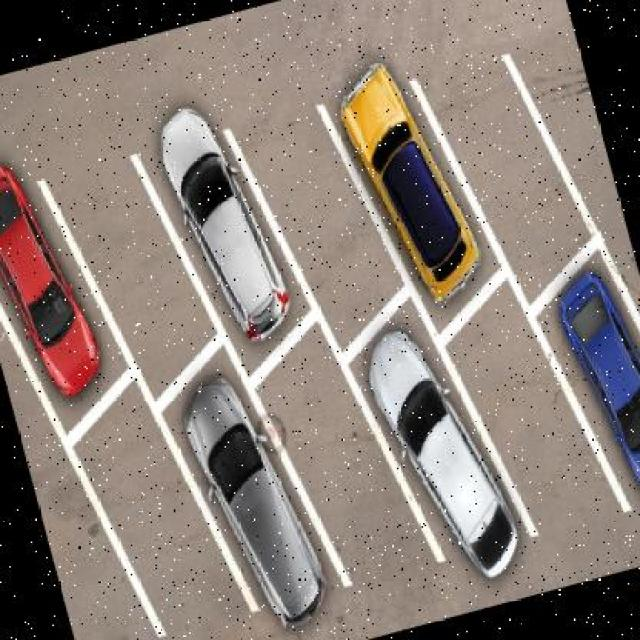Car: (360, 318, 534, 598), (171, 355, 337, 640), (326, 32, 489, 304), (151, 92, 297, 352), (1, 149, 109, 418), (544, 263, 640, 509)
Empty: (70, 398, 224, 640), (267, 347, 406, 578), (63, 141, 201, 370), (461, 311, 601, 520), (258, 109, 389, 326), (446, 54, 570, 283)
